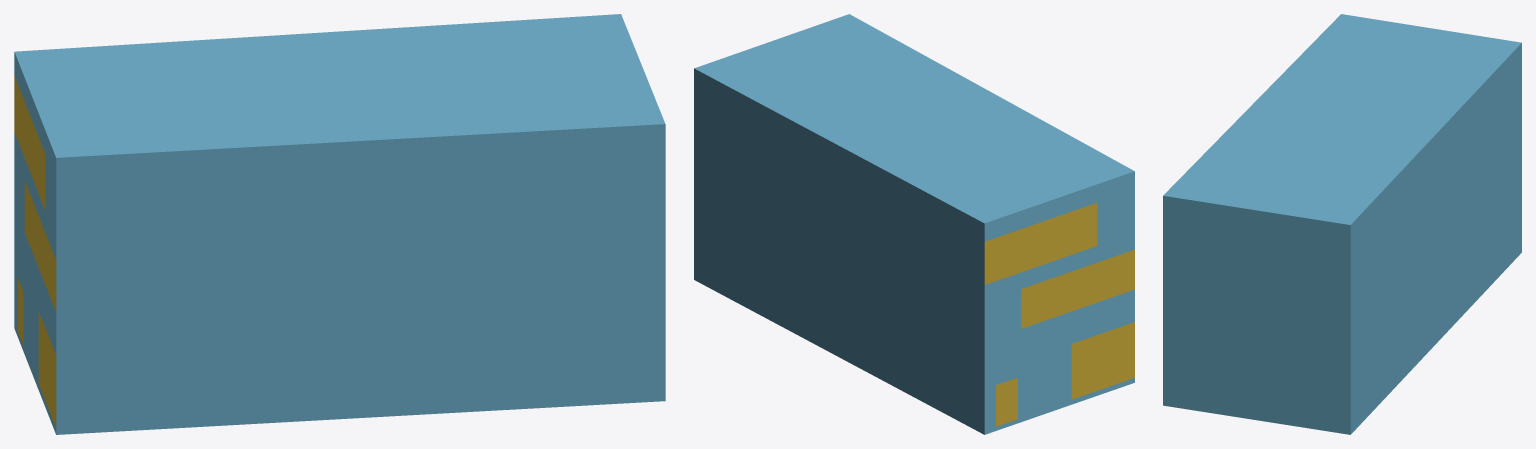
The model's file is bldg_f25acfe3-6cb6-4532-94ab-bd91e19713ea.obj.
3 renders of one model, left to right at view 1: azimuth 30°, elevation 25°; view 2: azimuth 150°, elevation 25°; view 3: azimuth 270°, elevation 25°, orthographic. The views are drawn at different scales.
Bounding box in the file's own units: 18.33 × 8.5 × 13.17.
